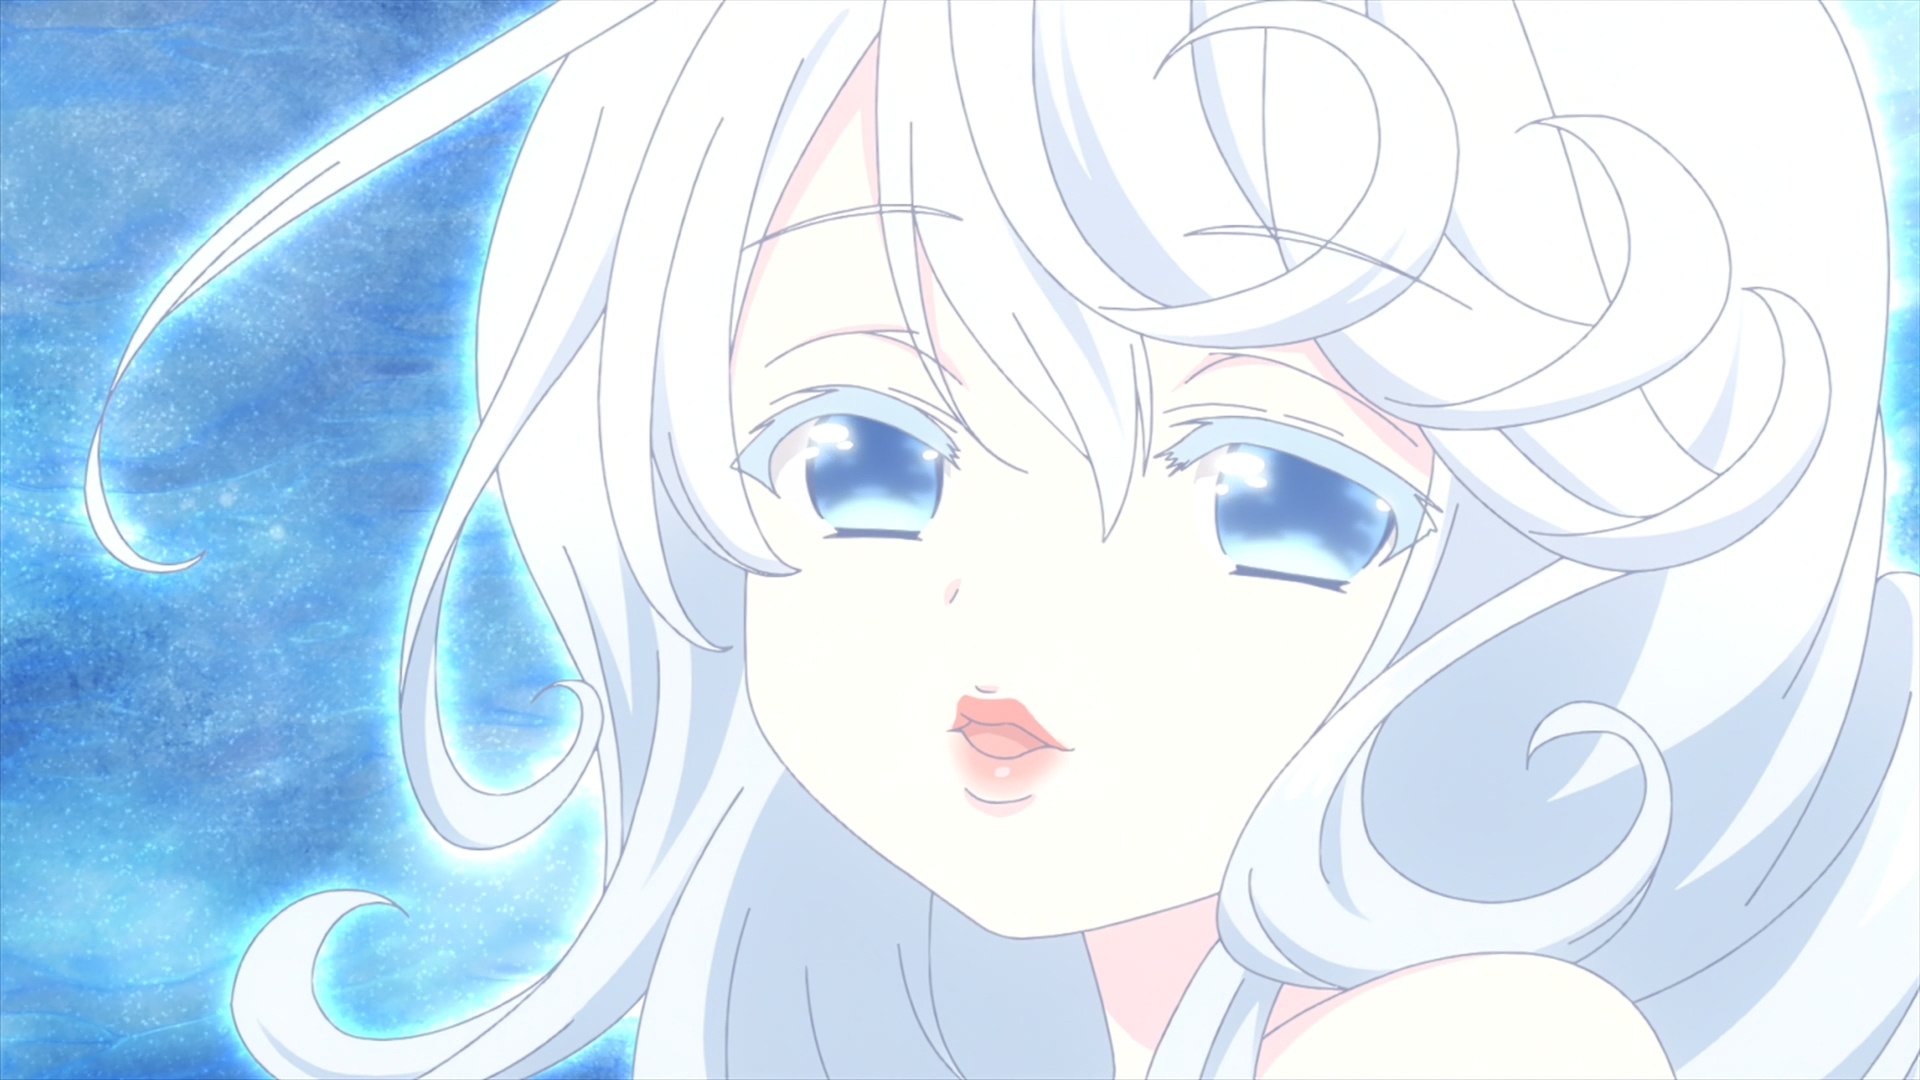其他: (84, 1, 1920, 1080)
